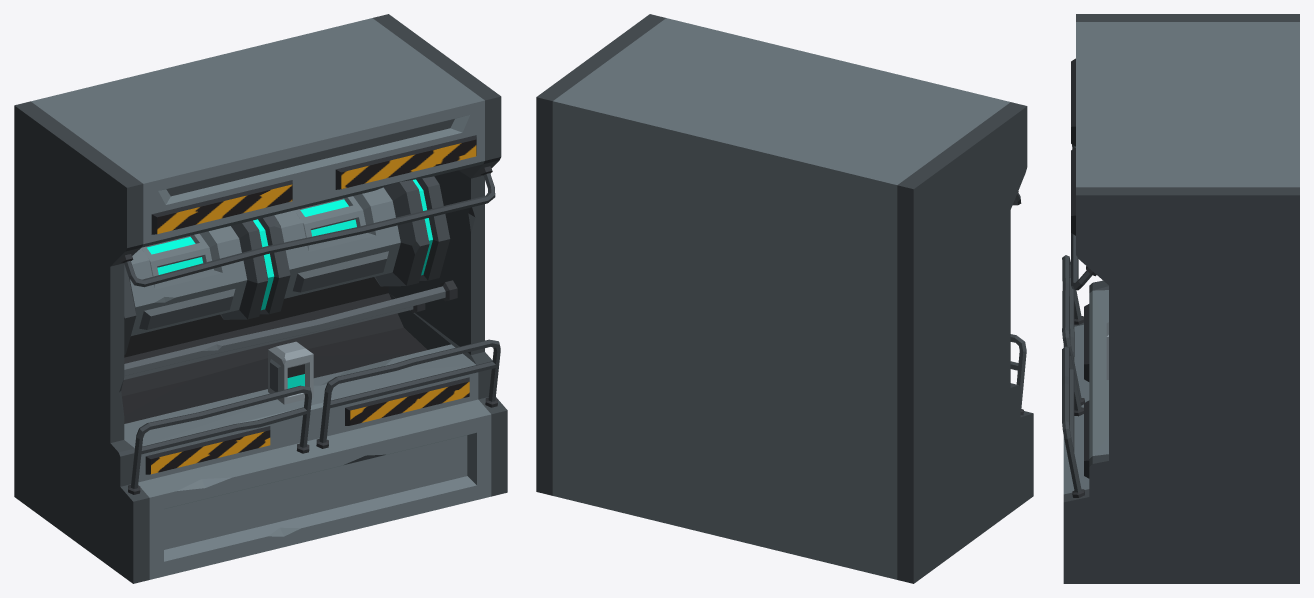
The model's file is SM_Bld_Wall_Mechanical_01.fbx.
3 views of the same model, side by side, from view 1: azimuth 30°, elevation 25°; view 2: azimuth 150°, elevation 25°; view 3: azimuth 270°, elevation 25° (orthographic).
Visible parts, largest first — view 1: SM_Bld_Wall_Mechanical_01; view 2: SM_Bld_Wall_Mechanical_01; view 3: SM_Bld_Wall_Mechanical_01.
Boxes of the visible parts, left/top/right/bottom form: SM_Bld_Wall_Mechanical_01: left=14, top=14, right=507, bottom=583; SM_Bld_Wall_Mechanical_01: left=536, top=14, right=1033, bottom=583; SM_Bld_Wall_Mechanical_01: left=1062, top=14, right=1299, bottom=583.
Size of the model in its own units: 500 by 500 by 277.
1 material, 1 textured.
